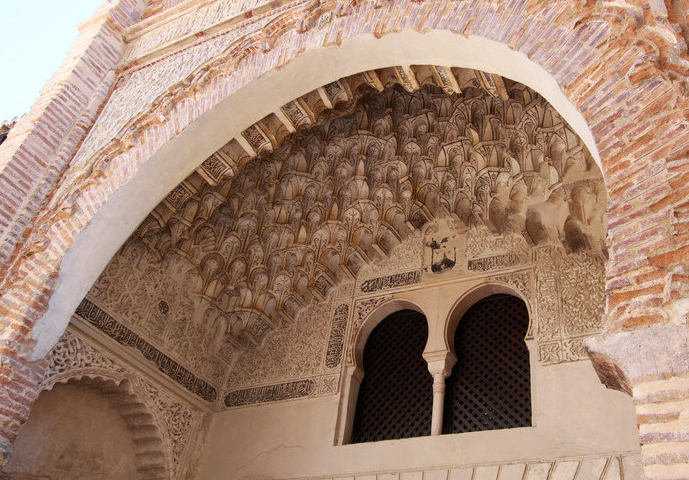arco-herradura: (438, 276, 539, 388), (341, 295, 438, 387)
